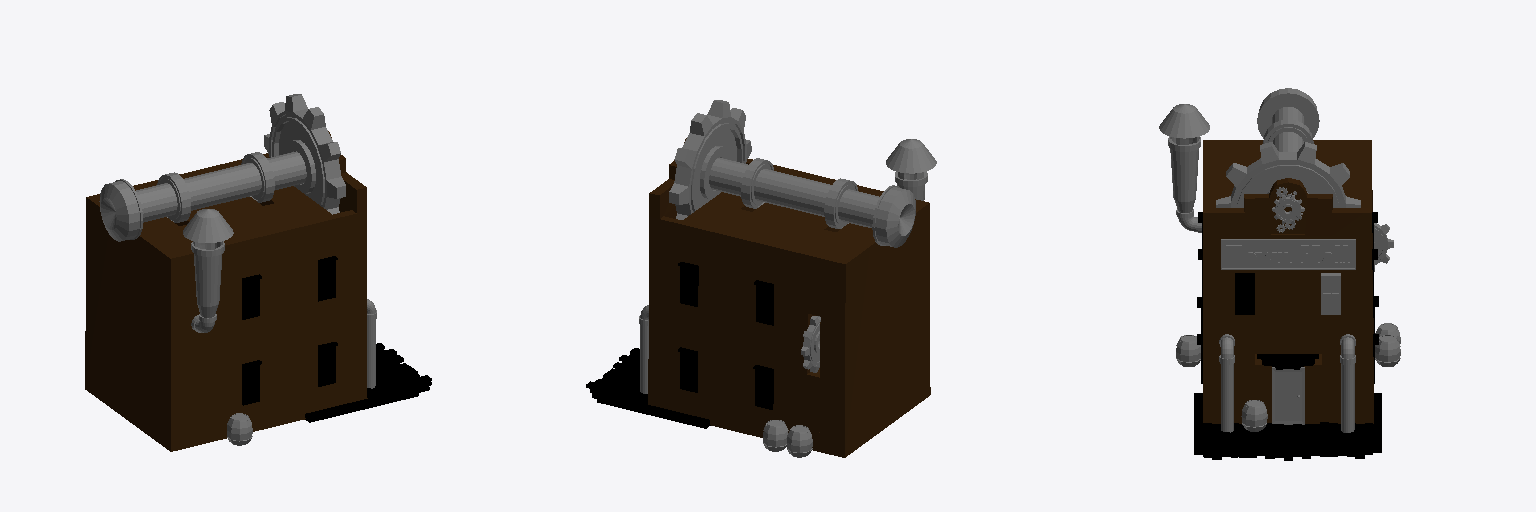
Rendered from TownHall.obj.
3 views of the same model, side by side, from view 1: azimuth 30°, elevation 25°; view 2: azimuth 150°, elevation 25°; view 3: azimuth 270°, elevation 25° (orthographic).
Parts seen in each view (by area): view 1: pCube1, pCylinder21, pPipe1 pPipe40 pPipe41 pPipe42, pCylinder20, pCube6, pPipe21, pCube16, pCube10, pCube17, pCube15, pCylinder17; view 2: pCube1, pCylinder21, pPipe1 pPipe40 pPipe41 pPipe42, pCube6, pCylinder20, pCube14, pCube12, pCube13, pCube11, pPipe22, pCylinder24, pCylinder23; view 3: pCube1, pPipe1 pPipe40 pPipe41 pPipe42, pCube6, pCylinder20, pCylinder21, pCube5, pCube9, pPipe22, pPipe21, typeMesh1, pCube19, pCube20 (+3 smaller).
Part boxes in pixels (x1,y1,x2,y2): pCube1: (85, 131, 367, 451); pCylinder21: (99, 151, 306, 241); pPipe1 pPipe40 pPipe41 pPipe42: (264, 94, 345, 214); pCylinder20: (183, 209, 233, 332); pCube6: (305, 343, 431, 422); pPipe21: (367, 299, 376, 388); pCube16: (242, 274, 261, 319); pCube10: (318, 342, 337, 386); pCube17: (318, 256, 337, 301); pCube15: (242, 360, 261, 405); pCylinder17: (227, 413, 252, 445); pCube1: (648, 138, 930, 457); pCylinder21: (709, 157, 915, 247); pPipe1 pPipe40 pPipe41 pPipe42: (669, 100, 820, 372); pCube6: (586, 348, 710, 428); pCylinder20: (886, 139, 936, 200); pCube14: (753, 365, 773, 409); pCube12: (678, 262, 698, 306); pCube13: (754, 280, 773, 325); pCube11: (678, 347, 697, 392); pPipe22: (639, 305, 648, 393); pCylinder24: (787, 425, 812, 457); pCylinder23: (763, 420, 788, 451); pCube1: (1203, 140, 1373, 423); pPipe1 pPipe40 pPipe41 pPipe42: (1216, 142, 1393, 369); pCube6: (1194, 393, 1381, 460); pCylinder20: (1159, 104, 1209, 232); pCylinder21: (1257, 88, 1319, 151); pCube5: (1221, 239, 1355, 269); pCube9: (1272, 367, 1304, 424); pPipe22: (1340, 334, 1355, 432); pPipe21: (1219, 334, 1234, 432); typeMesh1: (1226, 245, 1349, 263); pCube19: (1235, 273, 1254, 314); pCube20: (1321, 273, 1340, 314).
Bounding box in the file's own units: 50.19 × 46.39 × 36.82.